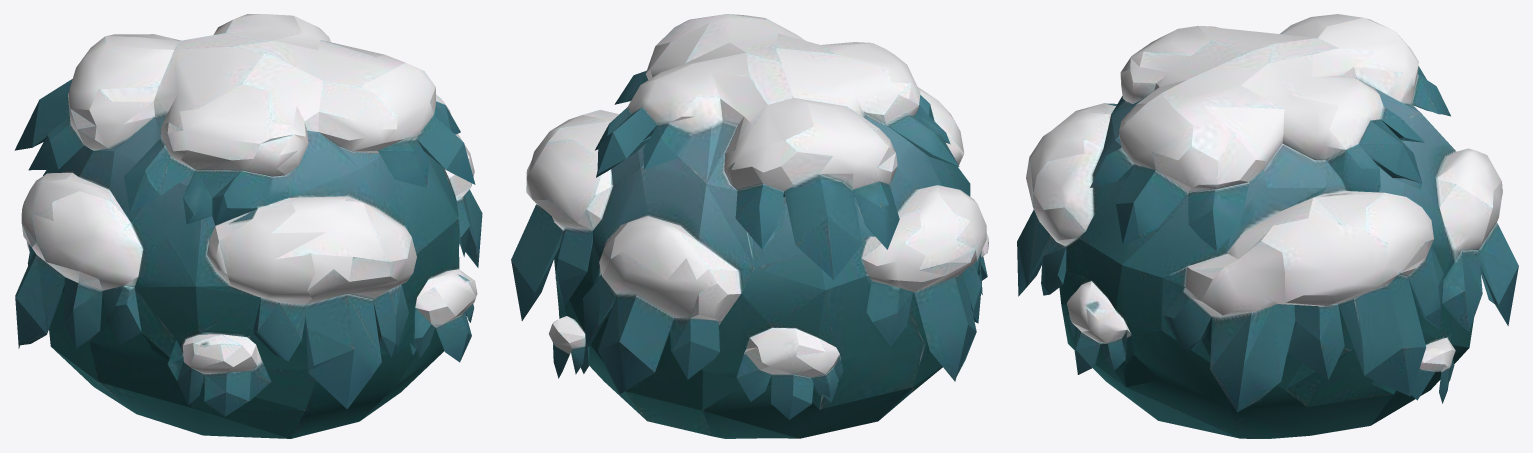
The model's file is e_busch.glb.
The picture shows the model from 3 angles, left to right: view 1: azimuth 30°, elevation 25°; view 2: azimuth 150°, elevation 25°; view 3: azimuth 270°, elevation 25°; orthographic projection. The views are drawn at different scales.
Size of the model in its own units: 1.87 by 1.46 by 1.88.
1 material, 1 textured.
